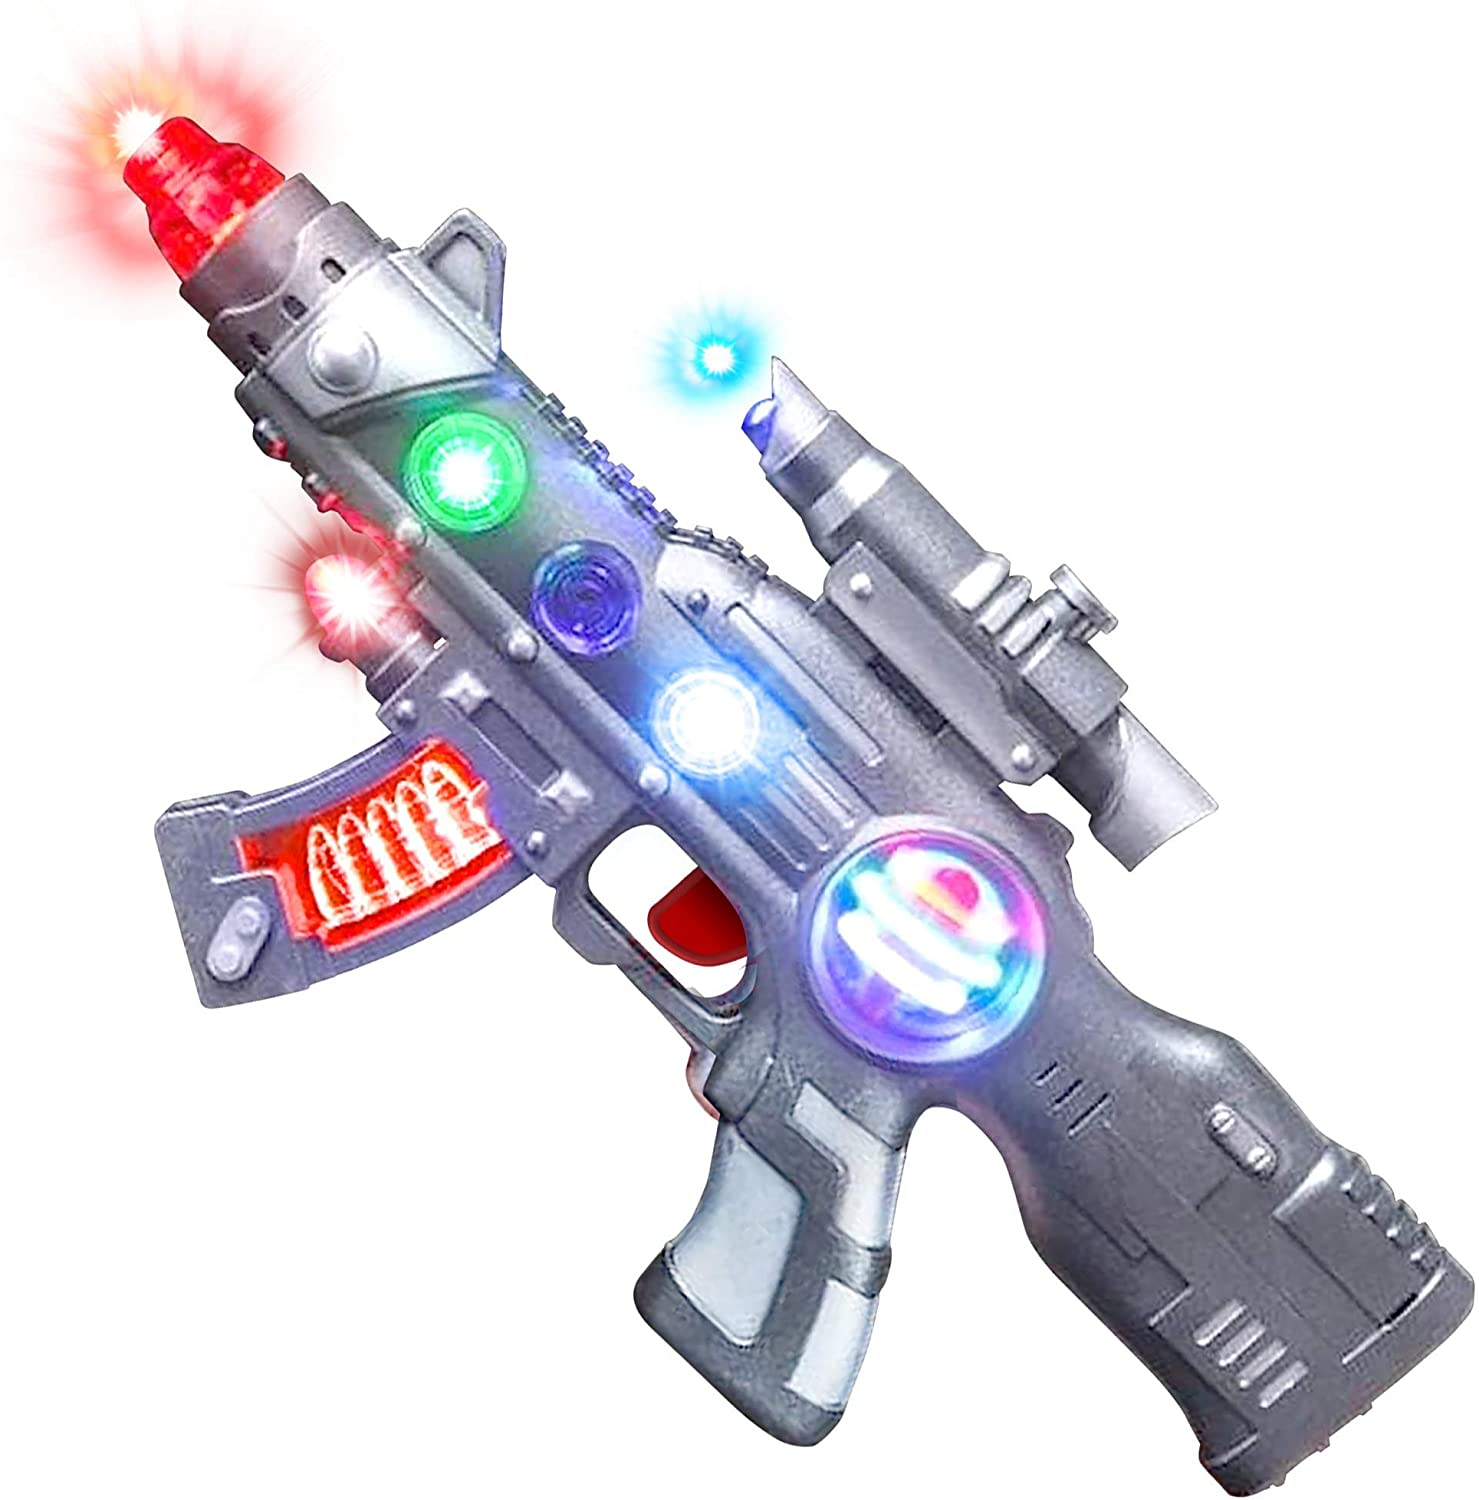Arma Falsa: (116, 107, 1470, 1500)
